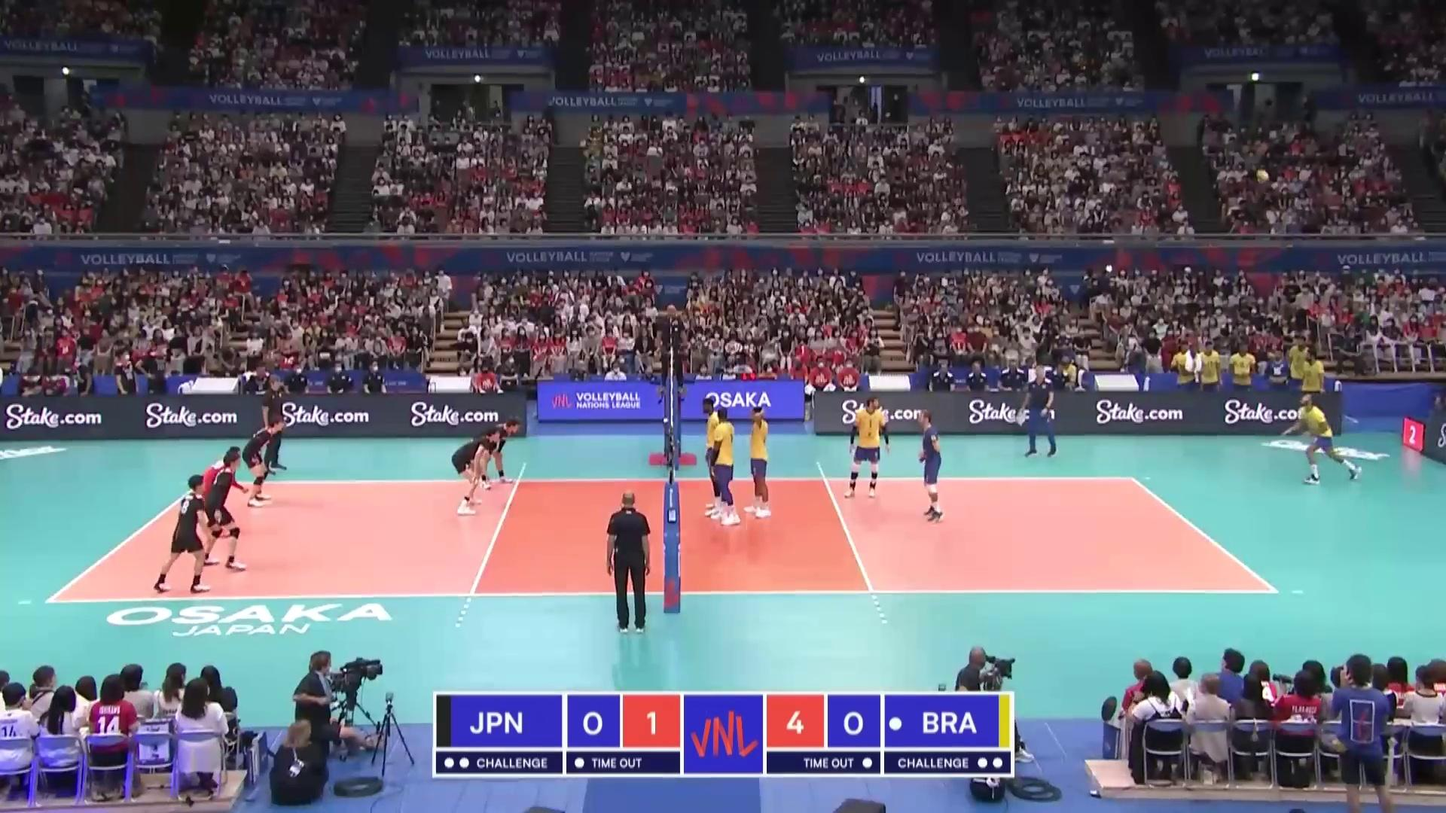player: (1279, 389, 1360, 486), (156, 476, 216, 592), (200, 454, 244, 568), (450, 428, 499, 516), (200, 445, 246, 537), (848, 398, 889, 499), (709, 410, 743, 525), (243, 419, 282, 507), (745, 405, 773, 519), (915, 411, 944, 520), (701, 398, 726, 516), (475, 419, 514, 489)
refree: (607, 491, 656, 629), (660, 305, 685, 390)
